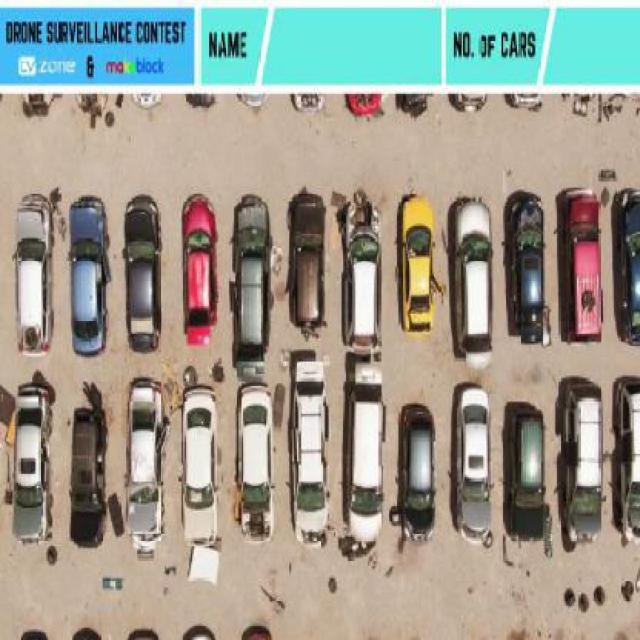car: (286, 352, 330, 550), (450, 196, 499, 372), (343, 354, 385, 546), (62, 196, 110, 360), (556, 187, 605, 344), (123, 372, 166, 548), (8, 378, 52, 545), (234, 379, 279, 542), (506, 190, 552, 348), (8, 196, 53, 357), (179, 380, 223, 544), (281, 188, 329, 336), (234, 192, 273, 371), (120, 194, 163, 354), (563, 373, 603, 541), (456, 378, 496, 542), (179, 194, 224, 339), (65, 404, 107, 552), (510, 402, 553, 544), (343, 197, 382, 350), (400, 404, 439, 547), (397, 196, 436, 339), (615, 185, 640, 342), (617, 373, 640, 543), (345, 91, 385, 115), (234, 623, 271, 640), (184, 625, 218, 640), (66, 626, 101, 640), (125, 627, 158, 640), (12, 629, 48, 640)
